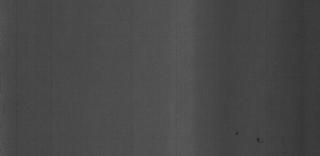oil spot: (228, 130, 266, 148)
